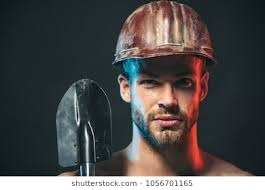helmet: (112, 2, 213, 64)
person with partial safety: (96, 1, 245, 173)
